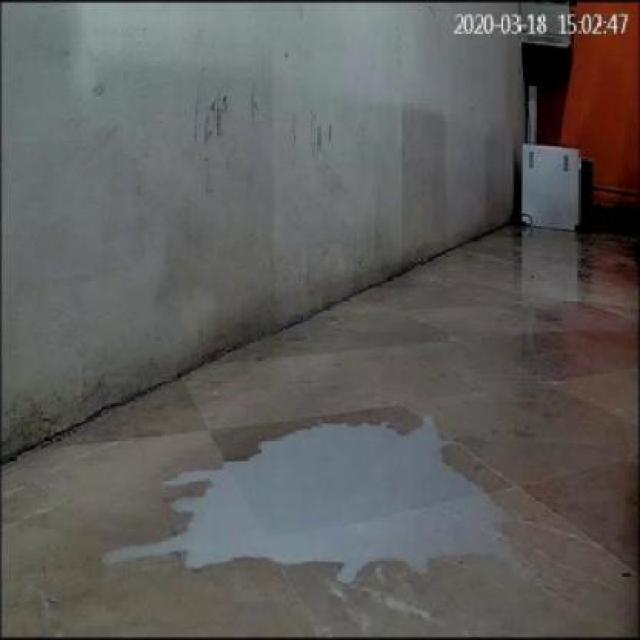spillage: (90, 423, 529, 583)
